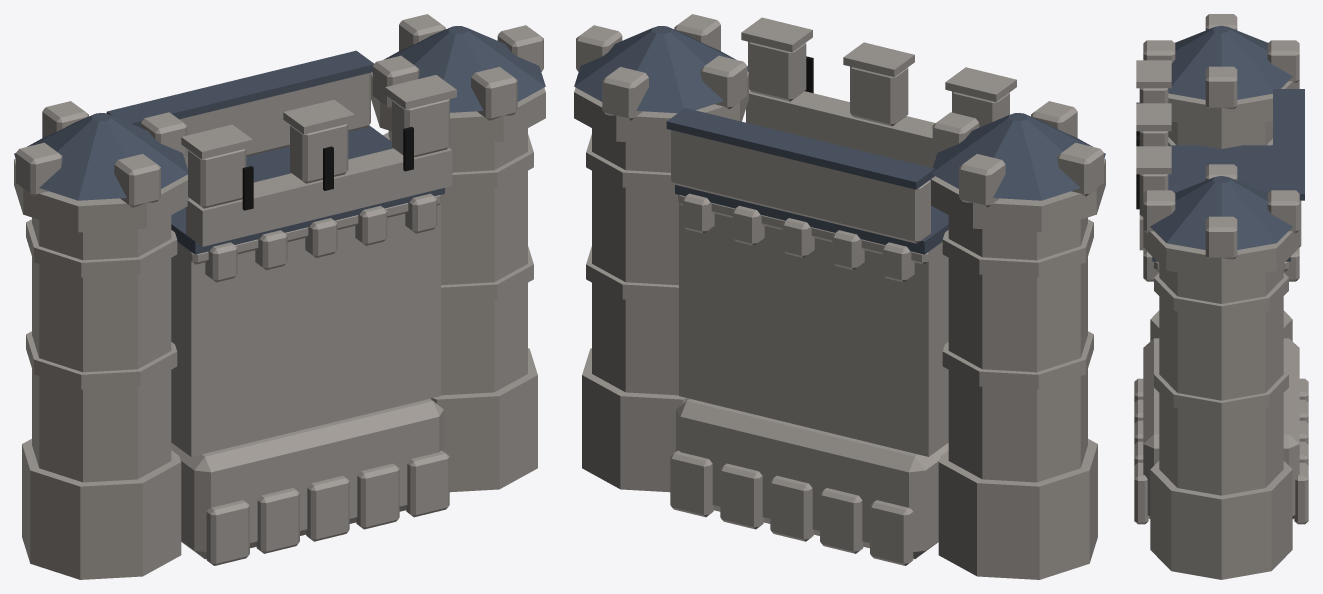
The model's file is AoE4_StoneWall.obj.
3 views of the same model, side by side, from view 1: azimuth 30°, elevation 25°; view 2: azimuth 150°, elevation 25°; view 3: azimuth 270°, elevation 25° (orthographic). The views are drawn at different scales.
Bounding box in the file's own units: 2.88 × 2.3 × 0.98.
